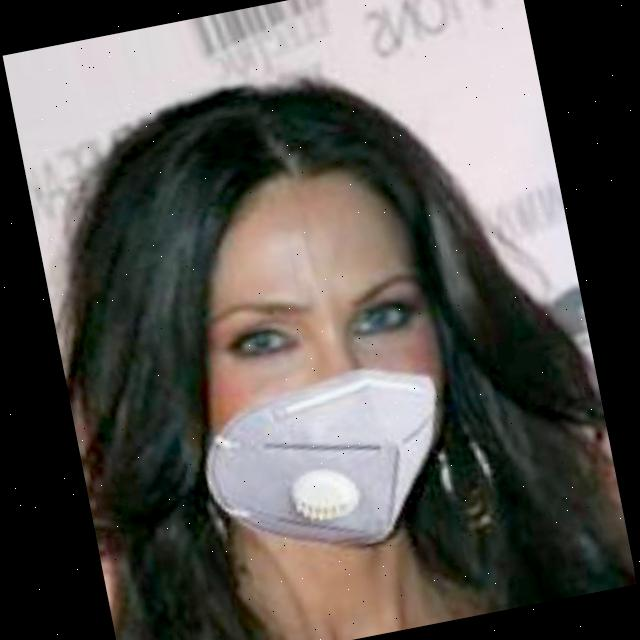suspicion: (95, 55, 488, 604)
